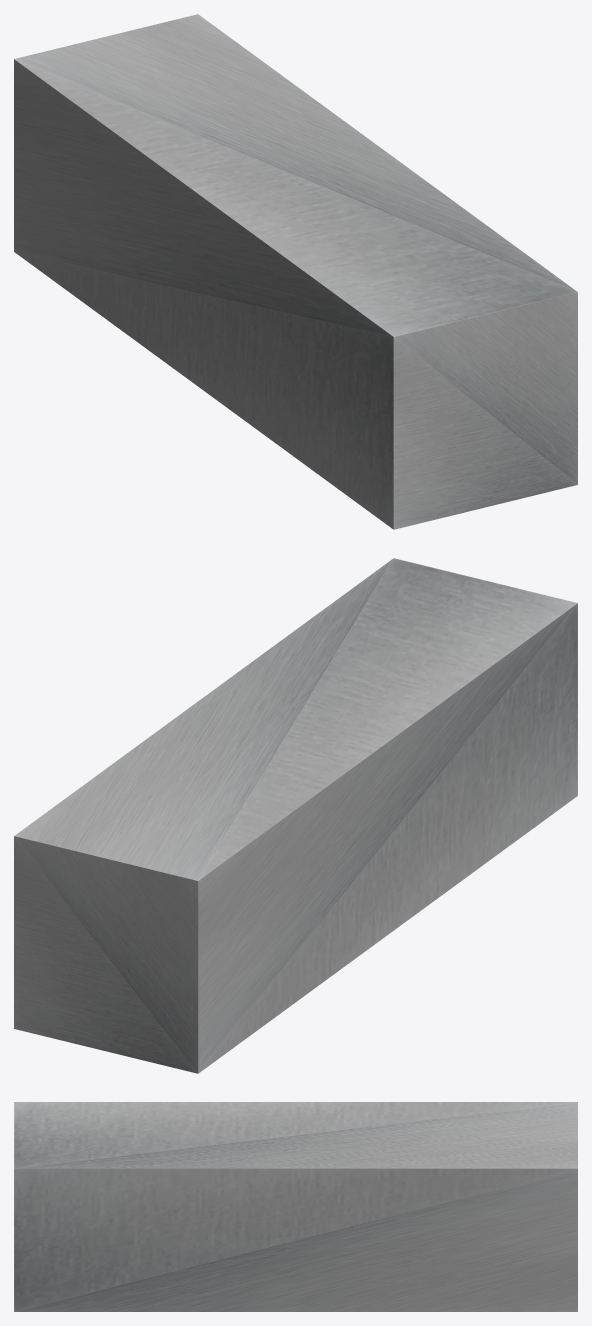
The model's file is support_roue_av.dae.
The picture shows the model from 3 angles, top to bottom: view 1: azimuth 30°, elevation 25°; view 2: azimuth 150°, elevation 25°; view 3: azimuth 270°, elevation 25°; orthographic projection. The views are drawn at different scales.
Parts seen in each view (by area): view 1: Support_Roue_Av; view 2: Support_Roue_Av; view 3: Support_Roue_Av.
Boxes of the visible parts, left/top/right/bottom form: Support_Roue_Av: left=14, top=14, right=577, bottom=529; Support_Roue_Av: left=14, top=558, right=577, bottom=1073; Support_Roue_Av: left=14, top=1102, right=577, bottom=1311.
Bounding box in the file's own units: 0.028 × 0.1 × 0.028.
Materials: 1 (1 with a texture image).
